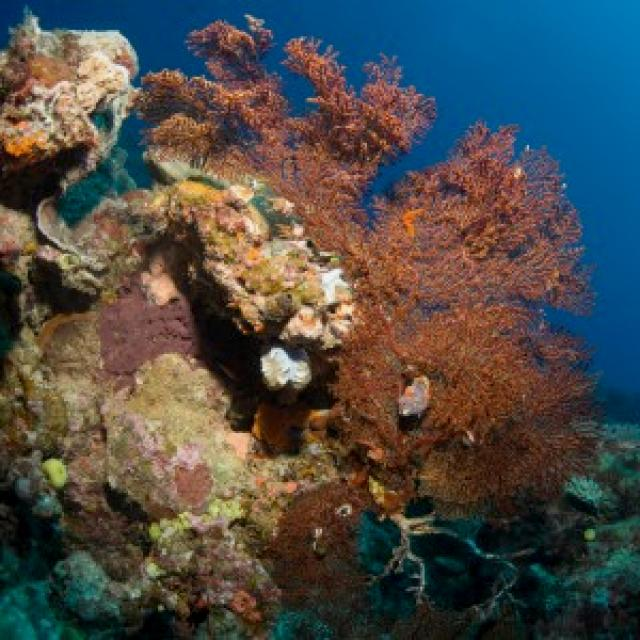Coral: (130, 11, 606, 523)
